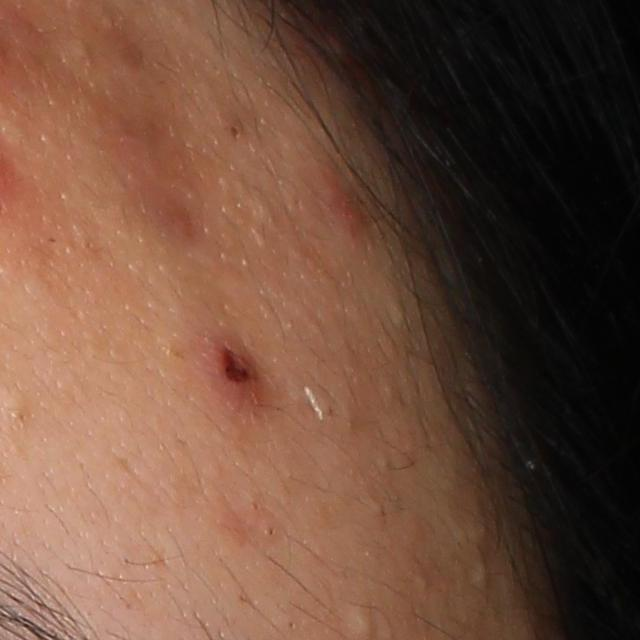comedo: (6, 392, 36, 429), (473, 558, 495, 590)
papule: (198, 336, 269, 406), (305, 165, 368, 231)
